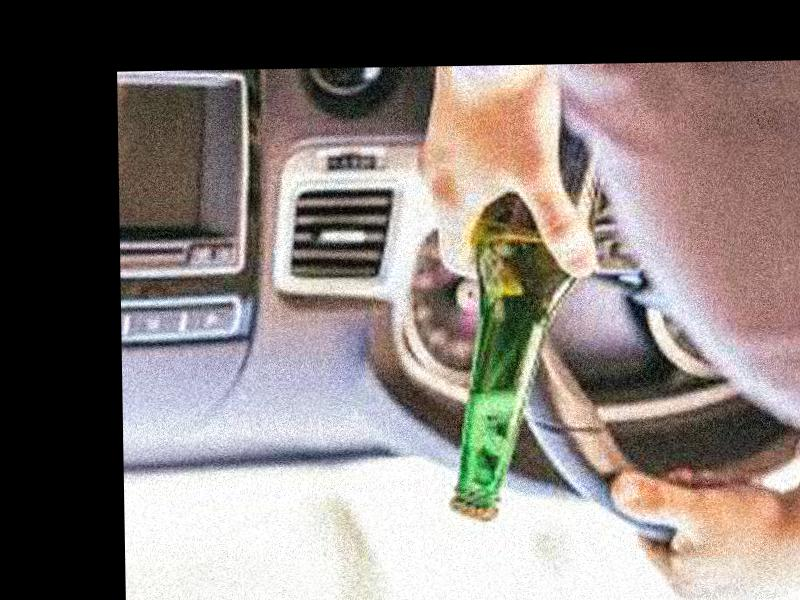Beer: (441, 109, 605, 524)
